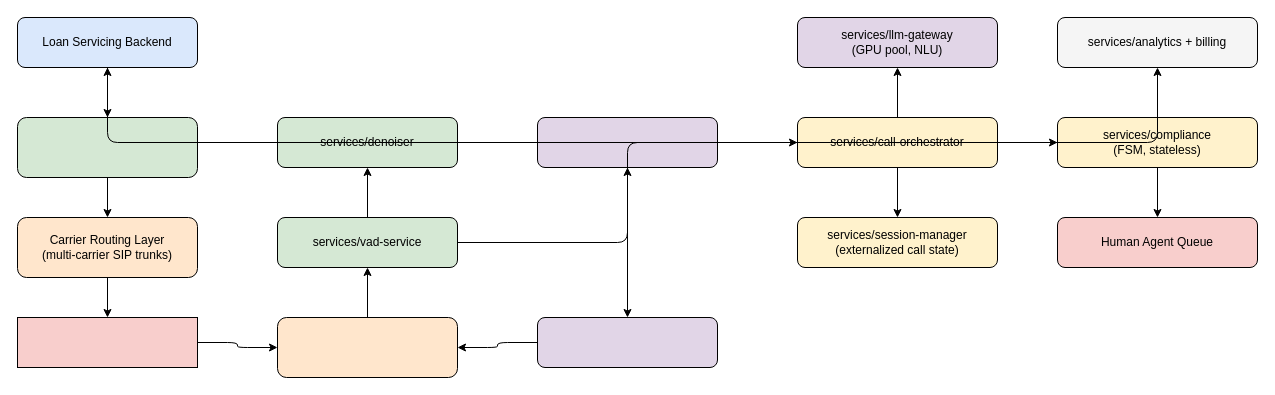
The diagram is 1275 pixels wide and 395 high, and some of its shapes have lost their labels. Each missing label, with the centre of its shape:
"Media Server Fleet (SIP/RTP termination)" belongs at (x=367, y=347).
"PSTN / Mobile Network" belongs at (x=107, y=342).
"services/scheduler (campaign + consent/DND gate)" belongs at (x=107, y=147).
"services/stt-service (GPU pool)" belongs at (x=627, y=142).
"services/tts-service (GPU pool)" belongs at (x=627, y=342).
